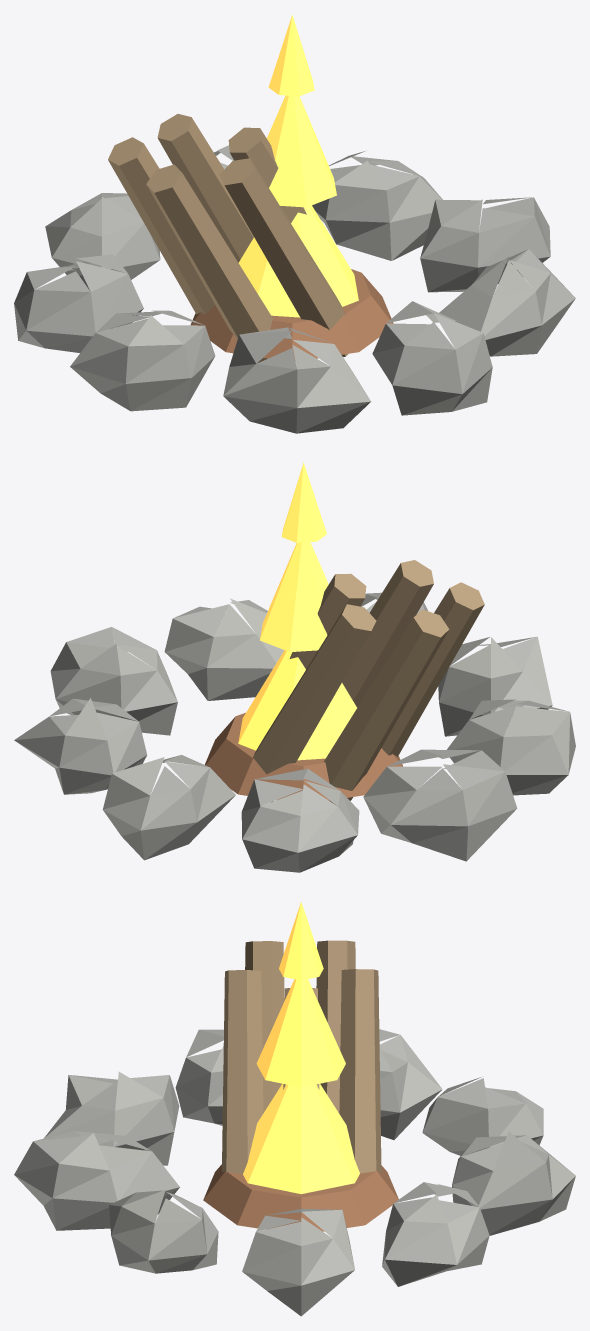
The model's file is campfire.glb.
3 views of the same model, one above another, from view 1: azimuth 30°, elevation 25°; view 2: azimuth 150°, elevation 25°; view 3: azimuth 270°, elevation 25° (orthographic). The views are drawn at different scales.
Visible parts, largest first — view 1: campfire; view 2: campfire; view 3: campfire.
Part boxes in pixels (left/top/right/bottom): campfire: left=14, top=15, right=575, bottom=433; campfire: left=14, top=462, right=575, bottom=872; campfire: left=14, top=902, right=575, bottom=1316.
Size of the model in its own units: 1.45 by 0.9018 by 1.47.
